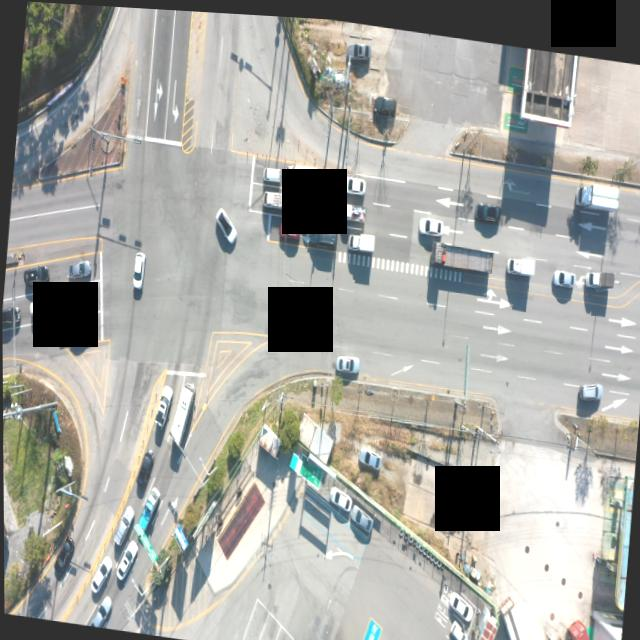car: (115, 536, 138, 580), (214, 206, 239, 246), (113, 501, 135, 545), (89, 552, 111, 595), (86, 594, 111, 628), (155, 383, 173, 429), (135, 448, 153, 490), (450, 587, 474, 617), (305, 222, 335, 246), (55, 536, 74, 573), (67, 317, 94, 342), (348, 503, 372, 530), (476, 194, 503, 217), (292, 308, 318, 331), (22, 264, 48, 287), (67, 257, 92, 280), (450, 613, 471, 640), (330, 482, 352, 507), (133, 249, 147, 288), (336, 351, 361, 372), (581, 373, 604, 395), (356, 443, 380, 464), (373, 89, 397, 110), (346, 39, 369, 60), (341, 172, 365, 192), (2, 306, 20, 332), (420, 211, 443, 231), (553, 262, 576, 281), (28, 297, 48, 318), (280, 217, 301, 236), (263, 161, 281, 179), (386, 634, 401, 640)
medium_truck: (430, 235, 493, 270), (496, 596, 546, 640), (577, 175, 621, 206), (287, 158, 319, 185), (585, 260, 617, 284)
small_bus: (170, 379, 198, 446)
small_truck: (135, 485, 162, 534), (53, 287, 87, 316), (504, 247, 533, 272), (347, 226, 376, 249), (300, 192, 327, 214), (262, 186, 288, 207), (339, 197, 365, 218)
